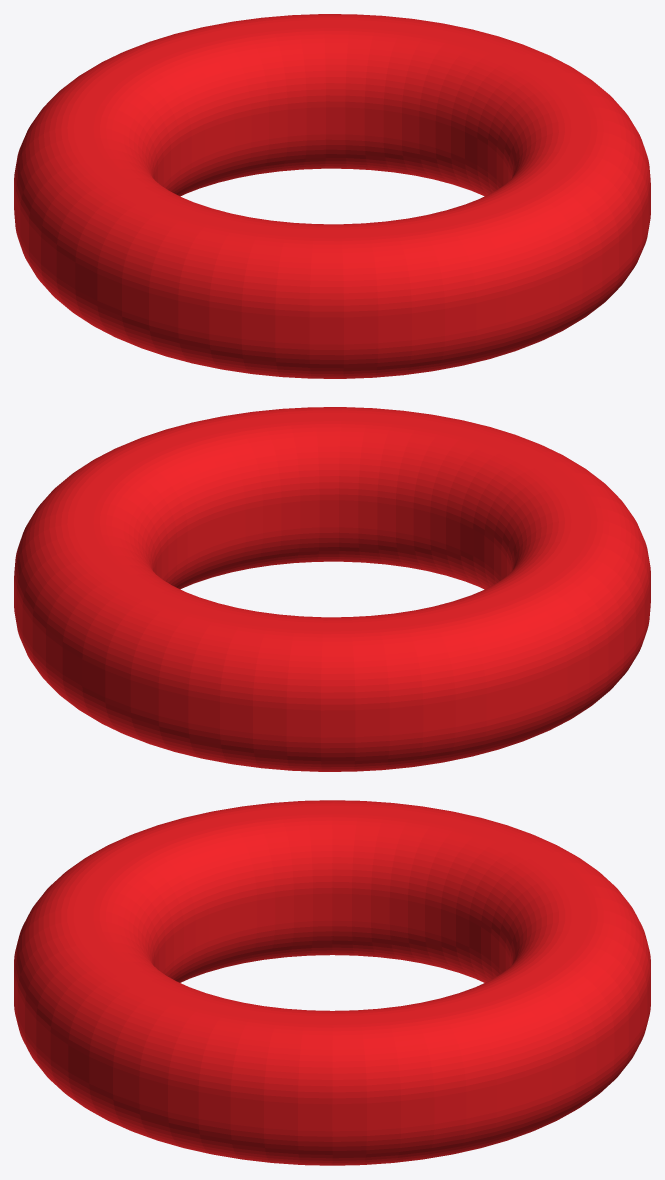
The model's file is donut.fbx.
3 views of the same model, one above another, from view 1: azimuth 30°, elevation 25°; view 2: azimuth 150°, elevation 25°; view 3: azimuth 270°, elevation 25° (orthographic).
Parts seen in each view (by area): view 1: root; view 2: root; view 3: root.
Boxes of the visible parts, <box> form: root: <box>14,14,650,378</box>; root: <box>14,407,650,771</box>; root: <box>14,800,650,1165</box>.
Size of the model in its own units: 0.512 by 0.1198 by 0.5112.
1 material, 1 textured.
